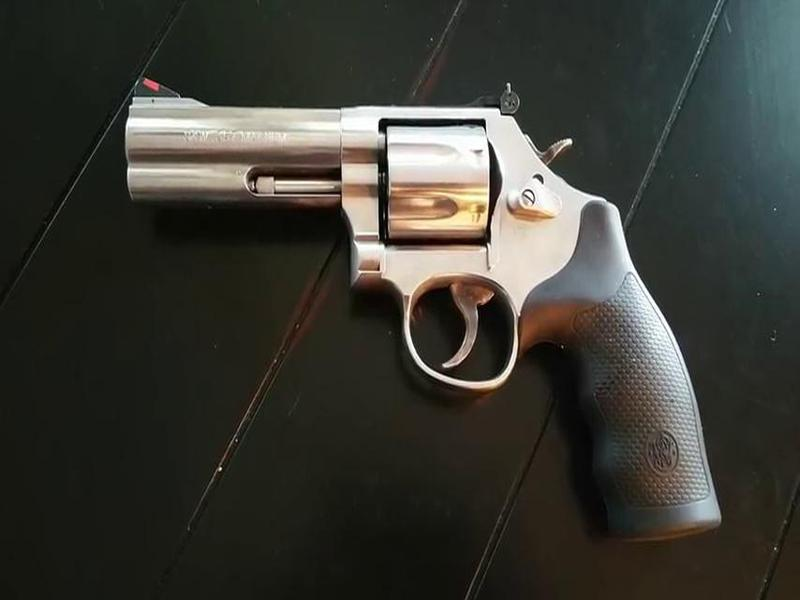Revolver: (117, 55, 745, 546)
